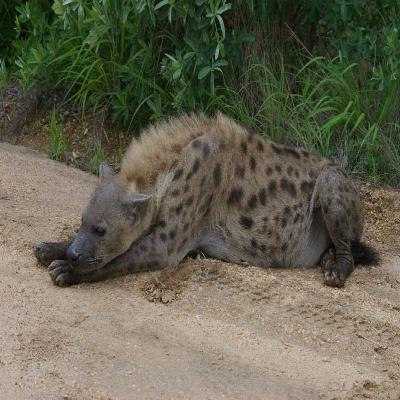hyenas: (21, 100, 400, 347)
